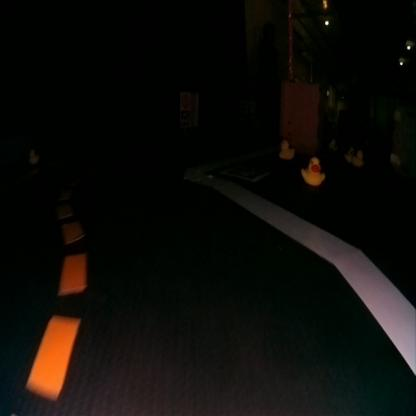Duckie: (302, 156, 324, 185), (278, 140, 295, 160), (353, 151, 363, 165), (29, 148, 38, 163), (344, 147, 352, 161), (330, 138, 337, 150)
QR code: (221, 165, 269, 183), (180, 109, 190, 125)
Stop sign: (180, 92, 190, 107)
